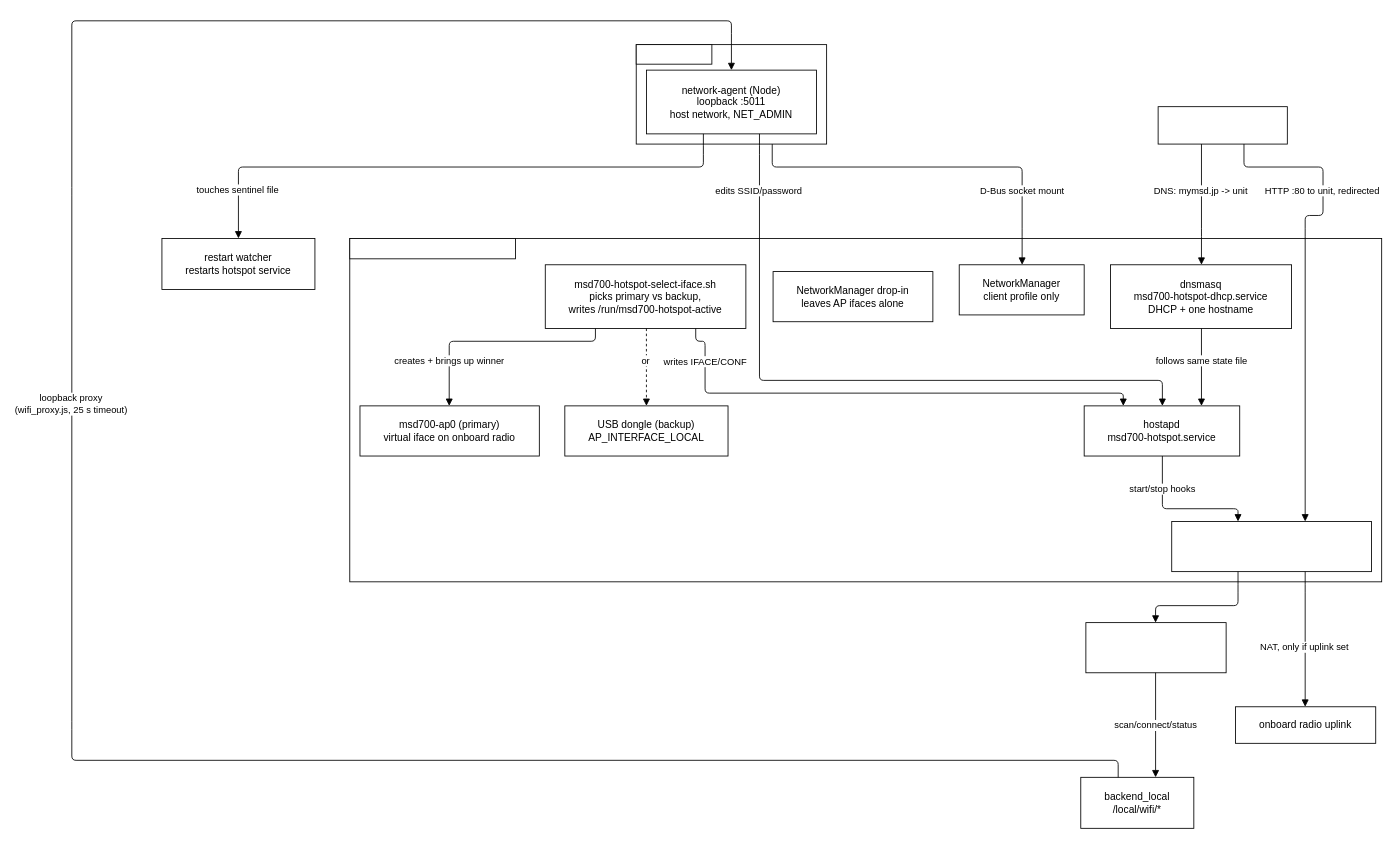
Image size: 1397x843. Some labels were removed from this diagram. The shapes that lost their labels are listed below. From the top down, each one's centre as x and y in pixels, then its label:
At pixel 673 54: "network_local".
At pixel 1222 125: "Device on hotspot".
At pixel 432 248: "Host (Jetson or dev laptop), Linux".
At pixel 1271 546: "msd700-hotspot-firewall.sh redirect to dashboard + NAT relay".
At pixel 1155 647: "frontend_local :3000 WiFi panel".
